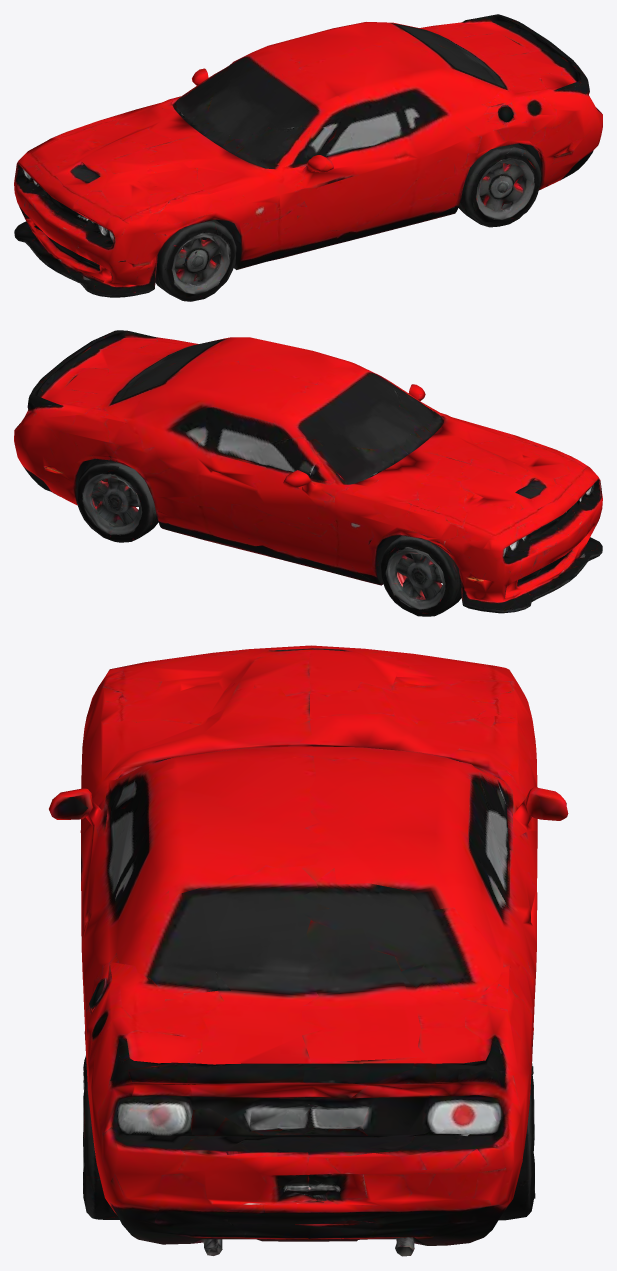
File: ur_inferno.glb
The picture shows the model from 3 angles, top to bottom: view 1: azimuth 30°, elevation 25°; view 2: azimuth 150°, elevation 25°; view 3: azimuth 270°, elevation 25°; orthographic projection. The views are drawn at different scales.
Size of the model in its own units: 1.9 by 0.5593 by 0.8292.
Materials: 1 (1 with a texture image).
